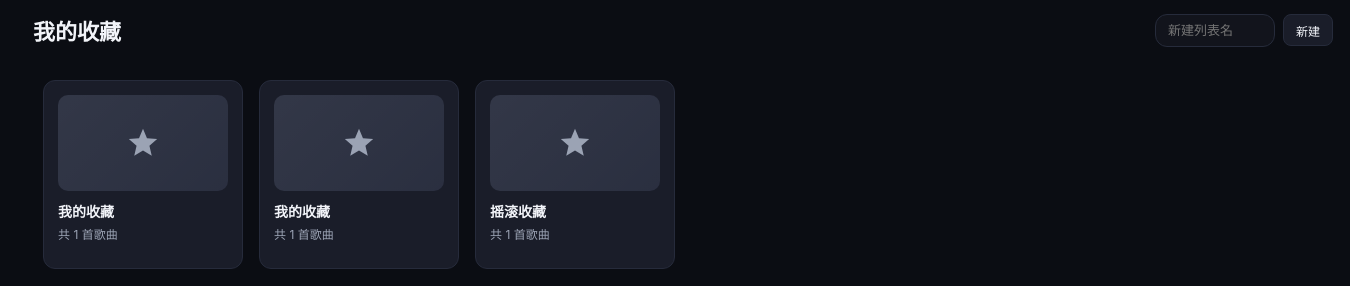
Test case: FavoritesPage 收藏网格视图 › 右键收藏夹卡片弹出管理菜单（播放全部/添加歌曲/重命名/删除列表）
The width and height of the screenshot is (1350, 286).
expect the text "摇滚收藏" is shown: met, box [490,203,546,220]
Right-click the text "摇滚收藏".
right_click(575, 174)  # box [475,80,675,269]
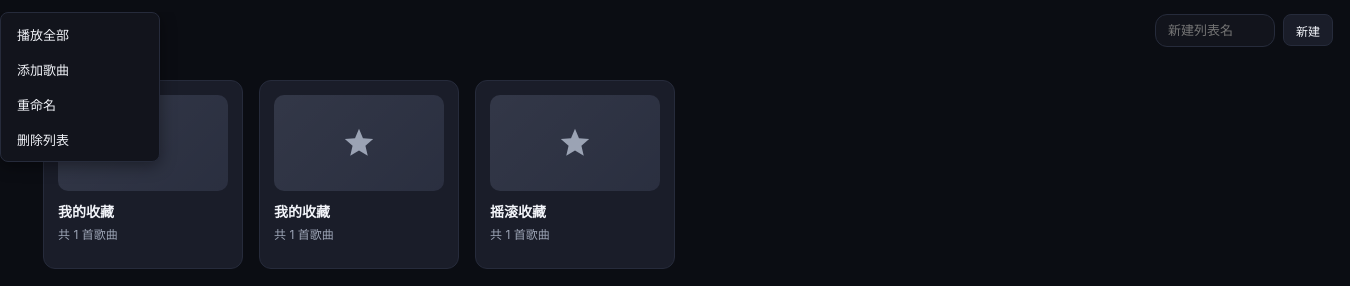
expect the text "播放全部" is shown: met, box [17,27,69,43]
expect the text "添加歌曲" is shown: met, box [17,62,69,78]
expect the text "重命名" is shown: met, box [17,97,56,113]
